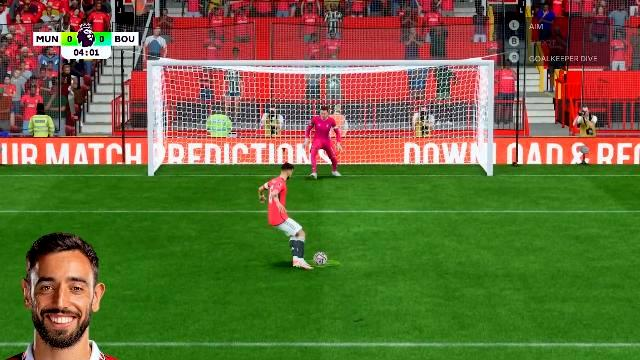bottom-left: (154, 126, 268, 178)
bottom-right: (374, 126, 488, 178)
center-down: (270, 126, 372, 178)
center-up: (271, 66, 371, 124)
circle: (303, 259, 339, 267)
football: (314, 252, 328, 262)
goalkeeper: (304, 107, 342, 179)
player: (257, 163, 313, 269)
top-left: (153, 67, 269, 125)
top-right: (374, 66, 488, 124)
